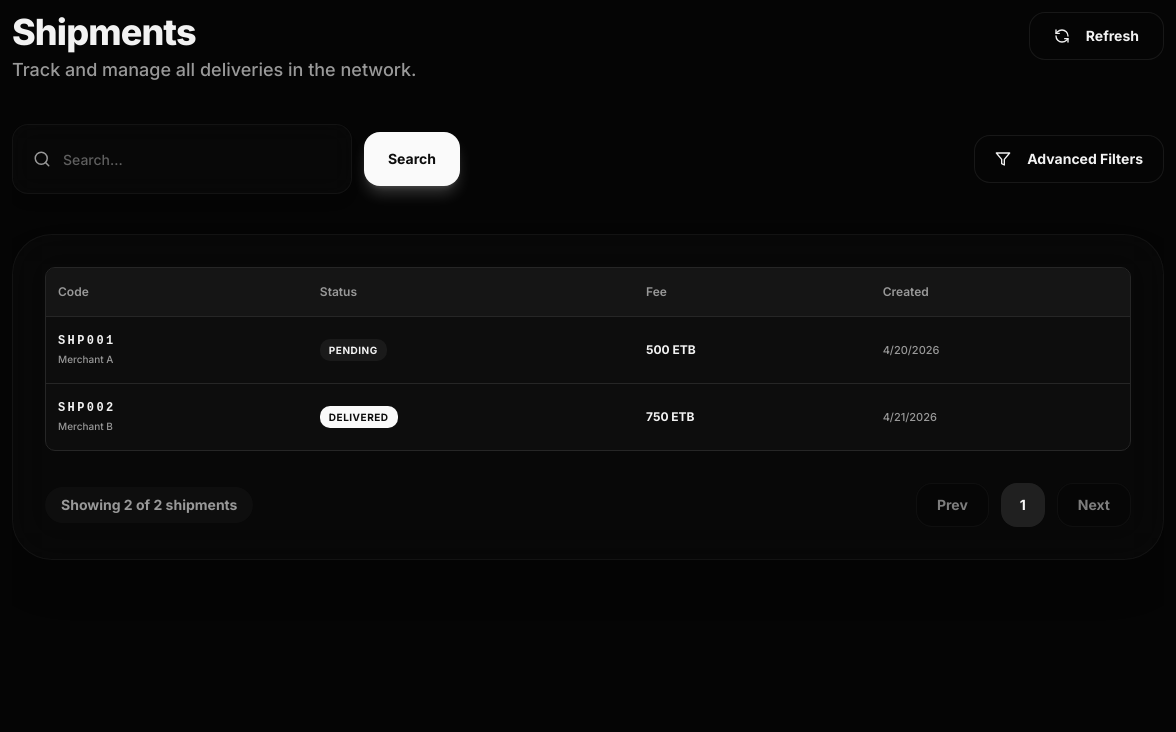
Test: AdminShipmentsPage › handles search locally
Expected: the text "SHP001" is shown, [58,334,116,348]
Type "SHP001" into the field with placeholder "Search..." at coordinates (197, 159), box [63,139,331,179]
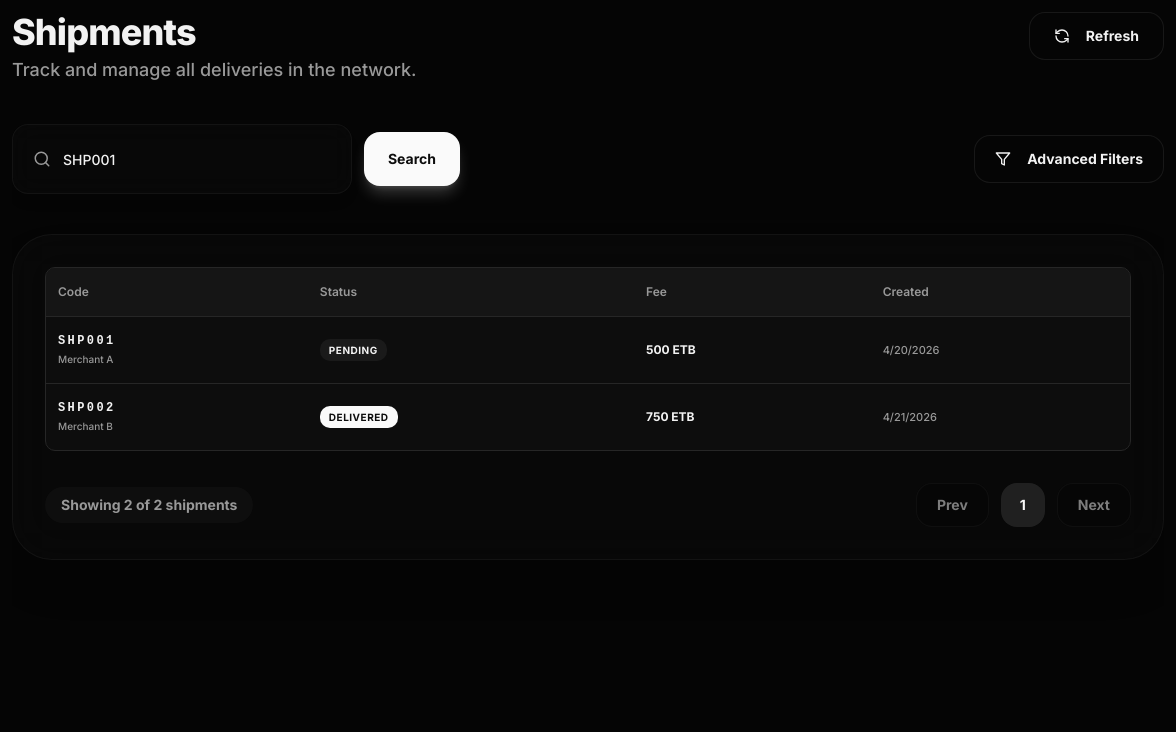
Click the button "Search" at coordinates (412, 159), box [364,132,460,186]
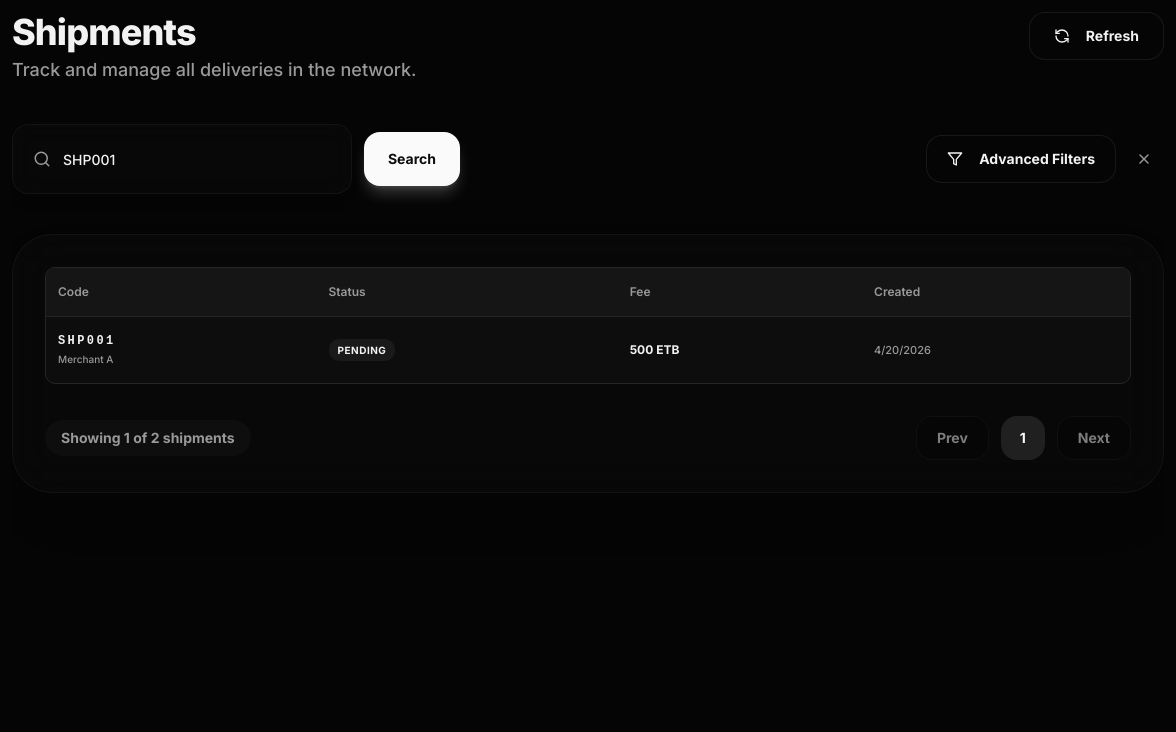
Expected: the text "SHP001" is shown, [58,334,116,348]
Result: the text "SHP002" is gone
